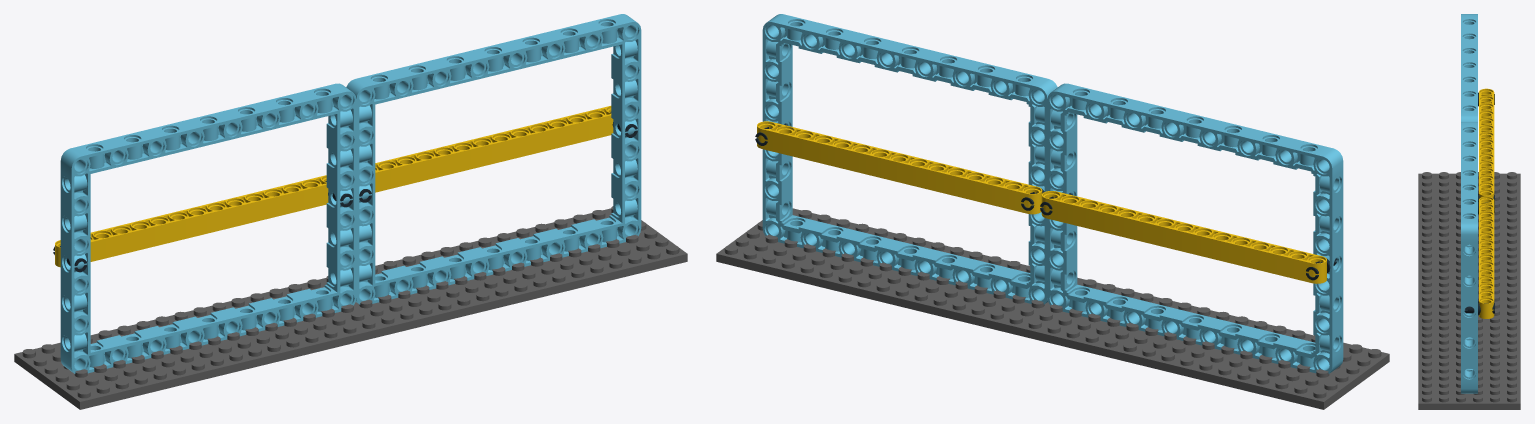
The model's file is obstacle.glb.
The picture shows the model from 3 angles, left to right: view 1: azimuth 30°, elevation 25°; view 2: azimuth 150°, elevation 25°; view 3: azimuth 270°, elevation 25°; orthographic projection. The views are drawn at different scales.
Visible parts, largest first — view 1: 39790.dat (×2), 3027.dat (×2), 32278.dat (×2); view 2: 39790.dat (×2), 3027.dat (×2), 32278.dat (×2); view 3: 3027.dat (×2), 39790.dat (×2), 32278.dat (×2), 2780.dat.
Boxes of the visible parts, x1=… form: 39790.dat (×2): x1=60, y1=14, x2=641, y2=373; 3027.dat (×2): x1=14, y1=206, x2=687, y2=409; 32278.dat (×2): x1=55, y1=106, x2=613, y2=267; 39790.dat (×2): x1=762, y1=14, x2=1343, y2=373; 3027.dat (×2): x1=716, y1=208, x2=1389, y2=409; 32278.dat (×2): x1=757, y1=121, x2=1326, y2=283; 3027.dat (×2): x1=1418, y1=172, x2=1520, y2=409; 39790.dat (×2): x1=1461, y1=14, x2=1477, y2=393; 32278.dat (×2): x1=1479, y1=88, x2=1494, y2=318; 2780.dat: x1=1464, y1=301, x2=1494, y2=314.
Bounding box in the file's own units: 25.6 × 9.12 × 4.8.
